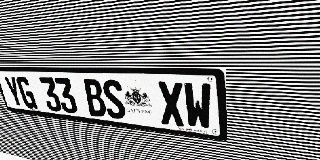3: (54, 78, 78, 114), (39, 77, 63, 112)
B: (82, 79, 108, 118)
G: (15, 76, 38, 109)
S: (101, 79, 127, 120)
W: (183, 82, 213, 130)
X: (157, 81, 186, 127)
Y: (3, 76, 25, 108)
